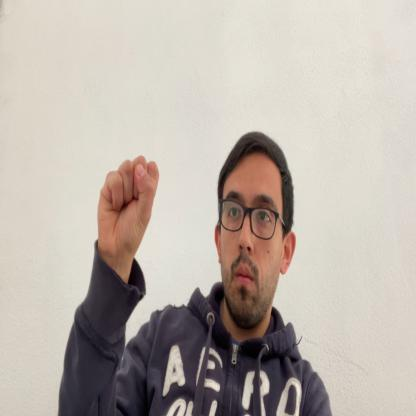S: (97, 156, 160, 265)
